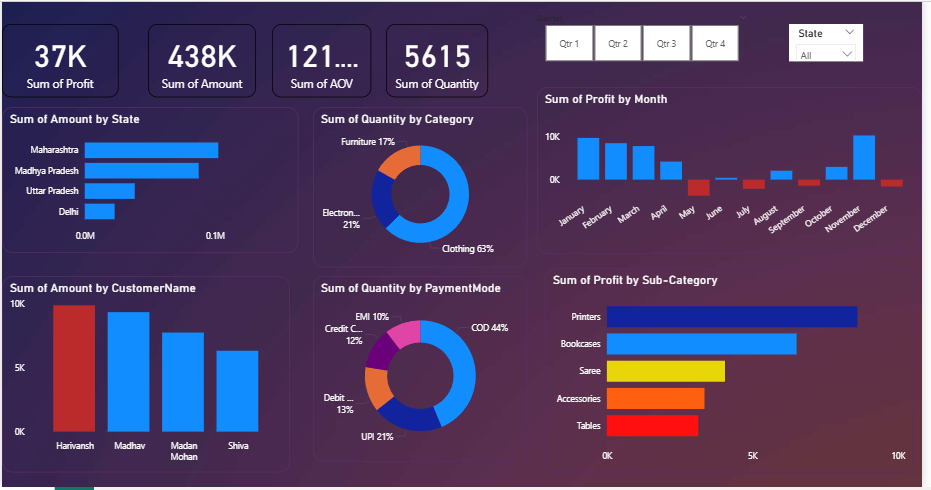

The dashboard page shown, as its layout file describes it:
{"tool":"powerbi","page":{"name":"Page 1","canvas":[1280,720],"ordinal":0},"visuals":[{"type":"textbox","box":[138.3,0,971.7,76.7],"z":0},{"type":"columnChart","fields":{"Y":["Details (1).Profit"],"Category":["Orders (2).Order Date.Variation.Date Hierarchy.Month"]},"box":[743.3,163.3,535,231.7],"z":1000},{"type":"barChart","fields":{"Category":["Details (1).Sub-Category"],"Y":["Details (1).Profit"]},"box":[755,415,511.7,285],"z":2000},{"type":"donutChart","fields":{"Y":["Details (1).Quantity"],"Category":["Details (1).Category"]},"box":[431.7,191.7,298.3,223.3],"z":3000},{"type":"donutChart","fields":{"Y":["Details (1).Quantity"],"Category":["Details (1).PaymentMode"]},"box":[431.7,426.7,298.3,258.3],"z":4000},{"type":"card","fields":{"Values":["Details (1).Amount"]},"box":[203.3,76.7,150,101.7],"z":5000},{"type":"card","fields":{"Values":["Details (1).AOV"]},"box":[375,76.7,138.3,101.7],"z":6000},{"type":"card","fields":{"Values":["Details (1).Profit"]},"box":[0,76.7,161.7,101.7],"z":7000},{"type":"card","fields":{"Values":["Details (1).Quantity"]},"box":[533.3,76.7,141.7,101.7],"z":8000},{"type":"barChart","fields":{"Category":["Orders (2).State"],"Y":["Details (1).Amount"]},"box":[0,191.7,411.7,203.3],"z":9000},{"type":"columnChart","fields":{"Category":["Orders (2).CustomerName"],"Y":["Details (1).Amount"]},"box":[0,426.7,400,273.3],"z":10000},{"type":"slicer","fields":{"Values":["Orders (2).Order Date.Variation.Date Hierarchy.Quarter"]},"box":[730,56.7,318.3,78.3],"z":10001},{"type":"slicer","fields":{"Values":["Orders (2).State"]},"box":[1093.3,76.7,103.3,51.7],"z":10002}]}

Visuals, with their boxes on the page's 1280x720 design canvas (x1, y1, x2, y2). These are canvas units, not pixel positions in the 931x490 screenshot, which may show the page scaled, cropped or inside an application window:
textbox: rect(138, 0, 1110, 77)
columnChart - Details (1).Profit x Orders (2).Order Date.Variation.Date Hierarchy.Month: rect(743, 163, 1278, 395)
barChart - Details (1).Sub-Category x Details (1).Profit: rect(755, 415, 1267, 700)
donutChart - Details (1).Quantity x Details (1).Category: rect(432, 192, 730, 415)
donutChart - Details (1).Quantity x Details (1).PaymentMode: rect(432, 427, 730, 685)
card - Details (1).Amount: rect(203, 77, 353, 178)
card - Details (1).AOV: rect(375, 77, 513, 178)
card - Details (1).Profit: rect(0, 77, 162, 178)
card - Details (1).Quantity: rect(533, 77, 675, 178)
barChart - Orders (2).State x Details (1).Amount: rect(0, 192, 412, 395)
columnChart - Orders (2).CustomerName x Details (1).Amount: rect(0, 427, 400, 700)
slicer - Orders (2).Order Date.Variation.Date Hierarchy.Quarter: rect(730, 57, 1048, 135)
slicer - Orders (2).State: rect(1093, 77, 1197, 128)
